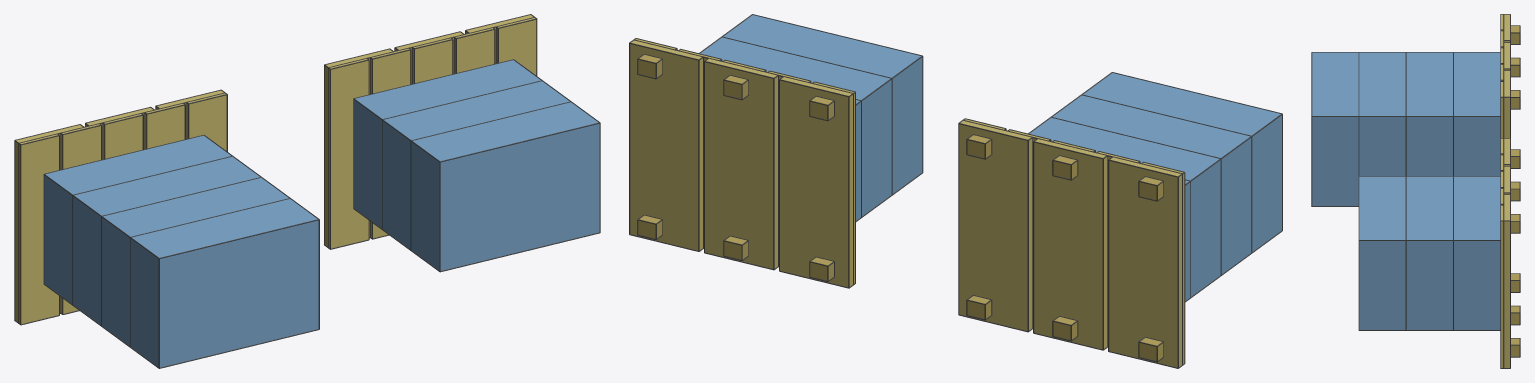
Rendered from pallet_TG1LF02410.glb.
3 views of the same model, side by side, from view 1: azimuth 30°, elevation 25°; view 2: azimuth 150°, elevation 25°; view 3: azimuth 270°, elevation 25° (orthographic). The views are drawn at different scales.
Parts seen in each view (by area): view 1: world; view 2: world; view 3: world.
Part boxes in pixels (left/top/right/bottom): world: left=14, top=14, right=600, bottom=368; world: left=629, top=14, right=1282, bottom=368; world: left=1311, top=14, right=1520, bottom=368.
Bounding box in the file's own units: 301 × 101 × 129.
